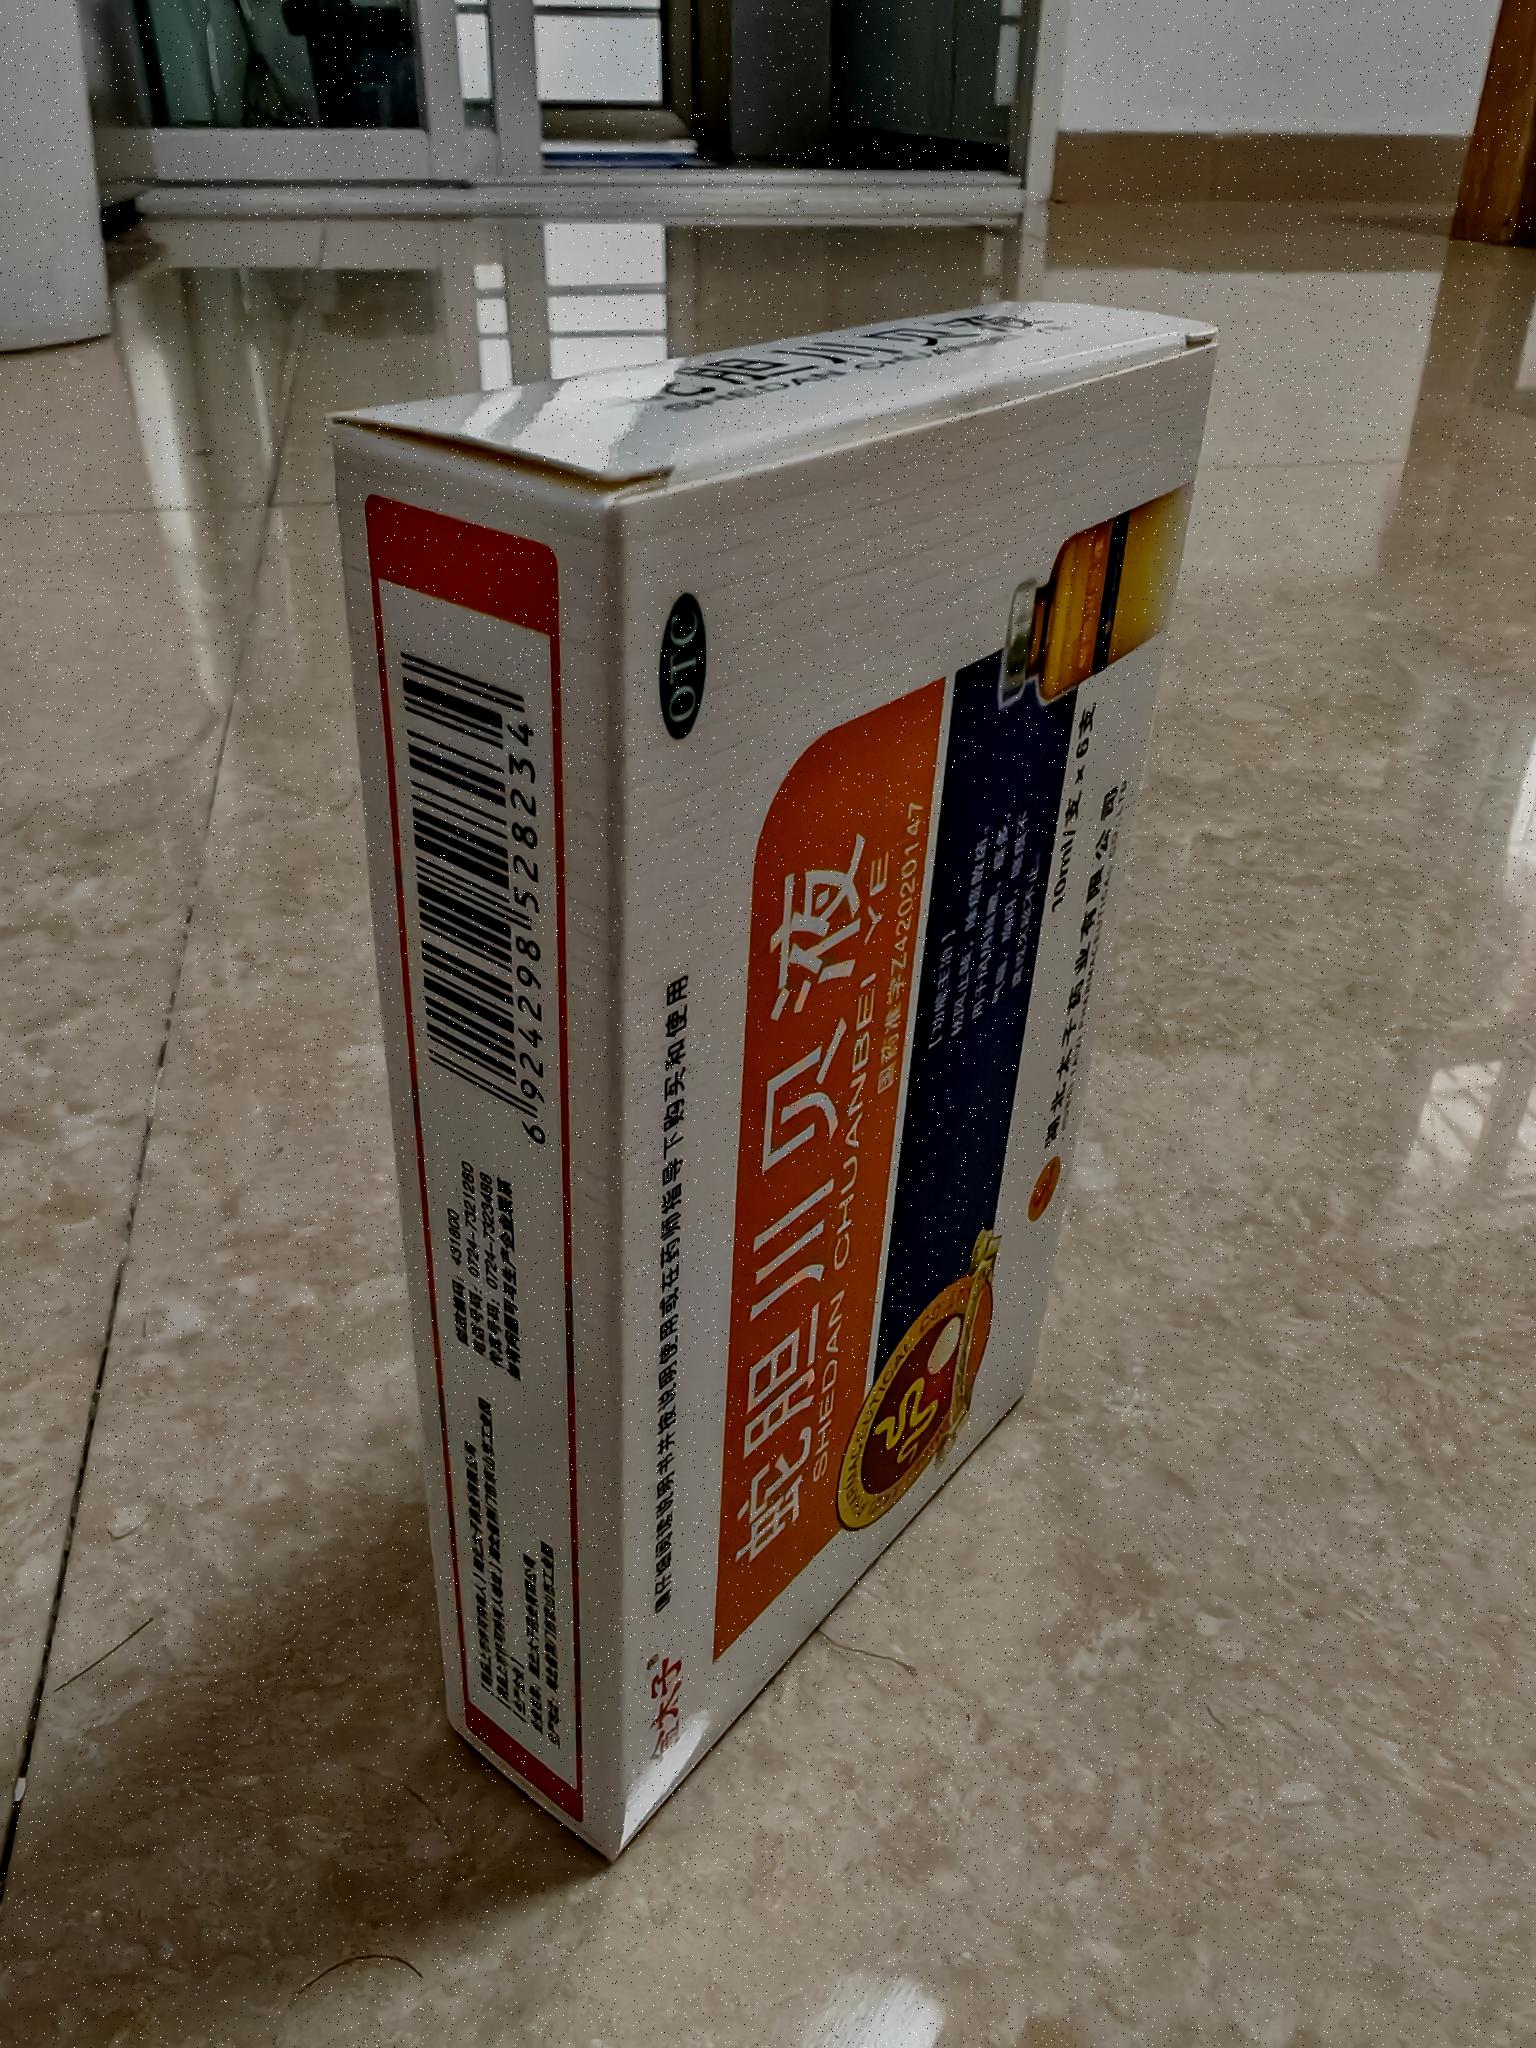Medicine5: (300, 290, 1241, 1874)
